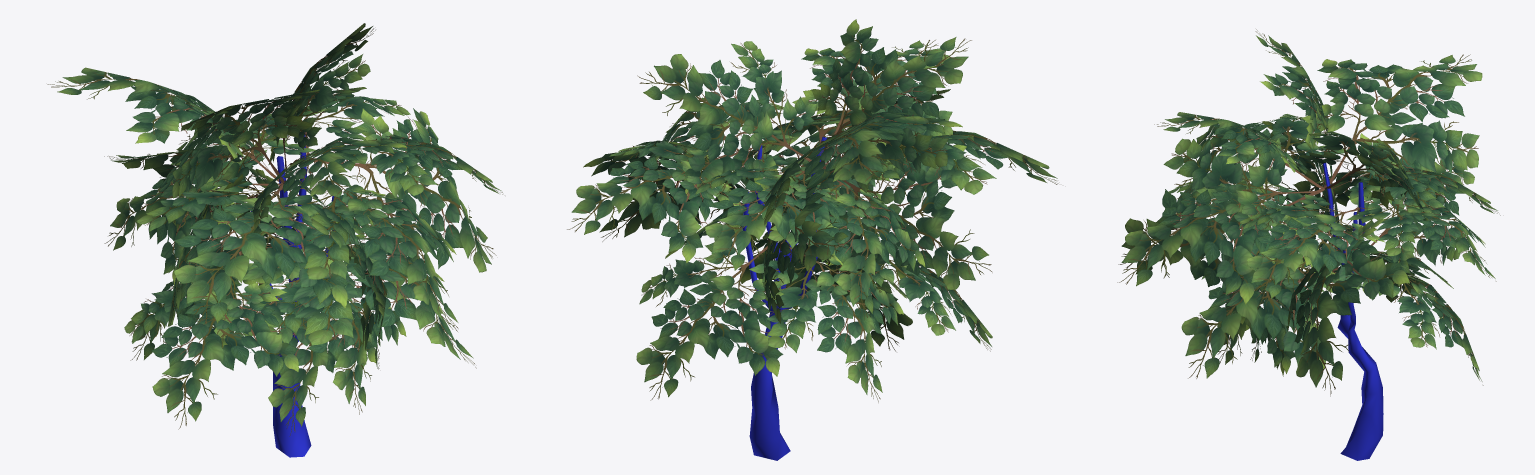
Rendered from Low Poly Tree 3.FBX.
The picture shows the model from 3 angles, left to right: view 1: azimuth 30°, elevation 25°; view 2: azimuth 150°, elevation 25°; view 3: azimuth 270°, elevation 25°; orthographic projection. The views are drawn at different scales.
Parts seen in each view (by area): view 1: Plane053, Plane069, Plane073, Plane065, Plane064, Plane068, Plane055, Plane060, Plane054, Plane056, Plane070, Plane067 (+8 smaller); view 2: Plane067, Plane061, Plane068, Plane057, Plane062, Plane066, Plane052, Plane056, Plane055, Plane063, Plane053, Tree 3 (+9 smaller); view 3: Plane055, Plane073, Plane065, Plane074, Plane058, Plane064, Plane057, Tree 3, Plane063, Plane067, Plane061, Plane054 (+8 smaller).
Boxes of the visible parts, x1,y1,x2,y2 form: Plane053: [136, 174, 349, 325]; Plane069: [124, 251, 298, 429]; Plane073: [273, 188, 458, 331]; Plane065: [311, 108, 496, 302]; Plane064: [242, 234, 476, 368]; Plane068: [172, 89, 319, 205]; Plane055: [47, 67, 281, 182]; Plane060: [265, 260, 406, 414]; Plane054: [250, 137, 407, 232]; Plane056: [104, 149, 282, 286]; Plane070: [214, 246, 377, 436]; Plane067: [268, 23, 375, 182]; Plane067: [637, 41, 817, 199]; Plane061: [636, 237, 784, 400]; Plane068: [811, 19, 971, 192]; Plane057: [567, 140, 740, 263]; Plane062: [749, 241, 903, 402]; Plane066: [822, 140, 992, 293]; Plane052: [693, 152, 848, 271]; Plane056: [768, 172, 925, 319]; Plane055: [762, 112, 962, 225]; Plane063: [761, 158, 853, 323]; Plane053: [825, 130, 1058, 194]; Tree 3: [742, 136, 827, 460]; Plane055: [1302, 54, 1482, 204]; Plane073: [1117, 167, 1324, 304]; Plane065: [1285, 208, 1409, 396]; Plane074: [1118, 138, 1324, 330]; Plane058: [1240, 194, 1384, 298]; Plane064: [1181, 235, 1339, 378]; Plane057: [1346, 204, 1496, 281]; Tree 3: [1322, 163, 1383, 460]; Plane063: [1347, 133, 1474, 286]; Plane067: [1297, 131, 1431, 226]; Plane061: [1376, 275, 1483, 385]; Plane054: [1154, 112, 1322, 187].
Size of the model in its own units: 544 by 522 by 512.
